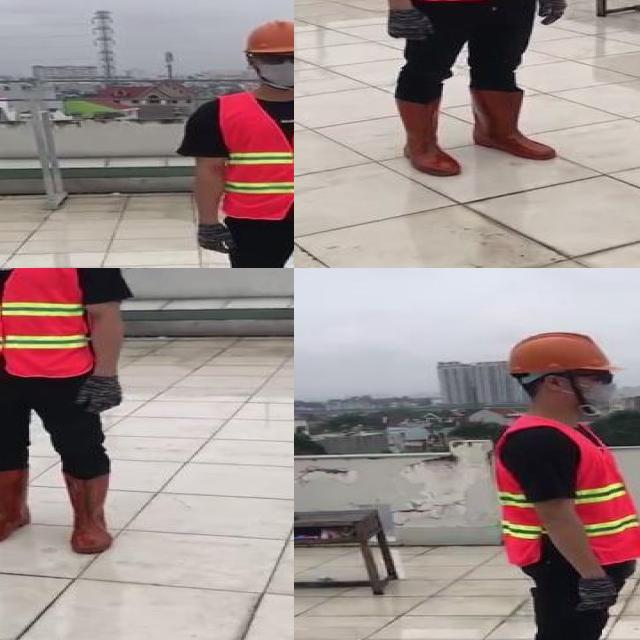boots: (472, 84, 560, 161), (392, 94, 466, 180), (64, 472, 117, 554), (0, 467, 32, 546)
face_mask: (568, 368, 620, 409), (250, 50, 294, 87)
glasses: (248, 50, 294, 68)
hand_glove: (80, 374, 121, 413), (574, 580, 622, 613), (388, 8, 434, 41), (189, 223, 234, 256), (537, 0, 572, 24)
head_helmet: (505, 330, 624, 374), (237, 19, 294, 55)
person: (480, 329, 640, 640), (0, 268, 137, 567), (345, 0, 574, 178), (173, 14, 294, 268)
vest: (491, 418, 640, 565), (0, 268, 94, 377), (219, 91, 294, 220)
